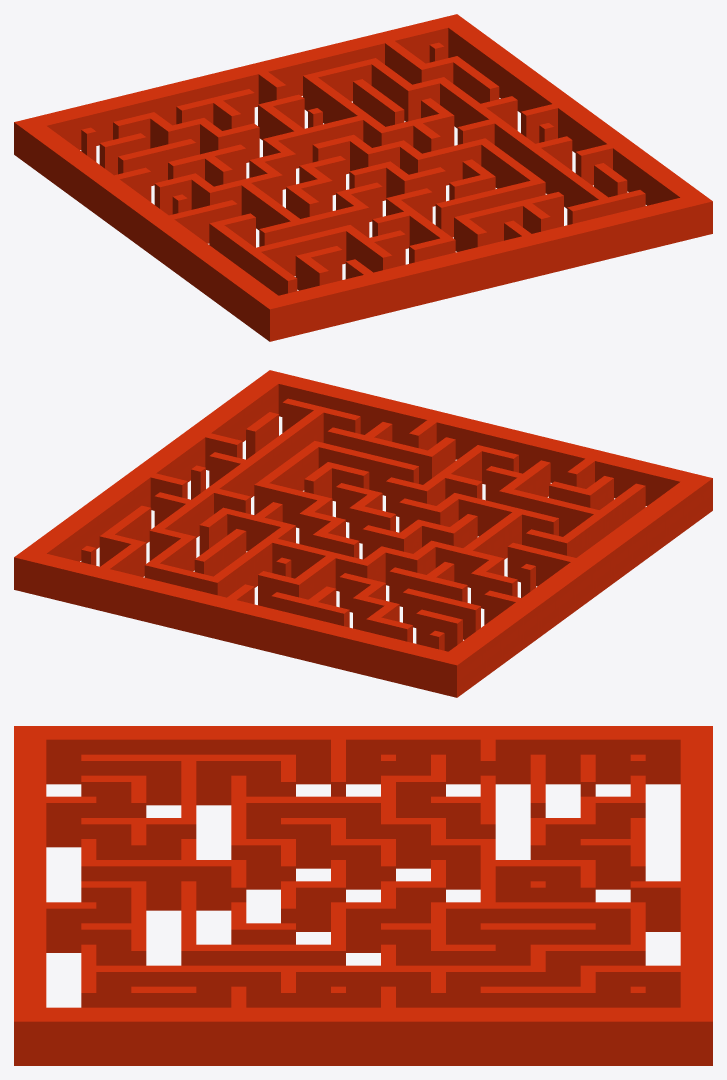
Rendered from mazes2.fbx.
3 renders of one model, top to bottom at view 1: azimuth 30°, elevation 25°; view 2: azimuth 150°, elevation 25°; view 3: azimuth 270°, elevation 25°, orthographic. The views are drawn at different scales.
Parts seen in each view (by area): view 1: Plane.001; view 2: Plane.001; view 3: Plane.001.
Part boxes in pixels (<box>): Plane.001: <box>14,14,712,341</box>; Plane.001: <box>14,370,712,697</box>; Plane.001: <box>14,726,712,1065</box>.
Size of the model in its own units: 985 by 69 by 985.
